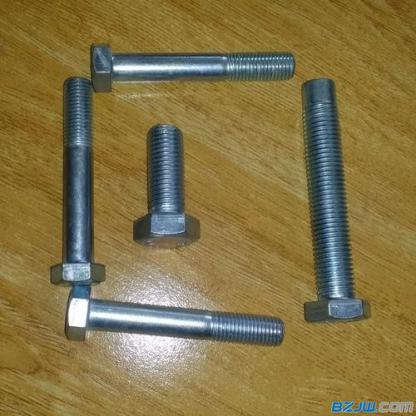FOD: (298, 74, 374, 325), (61, 282, 286, 348), (48, 73, 105, 289), (87, 38, 296, 96), (131, 119, 203, 253)
